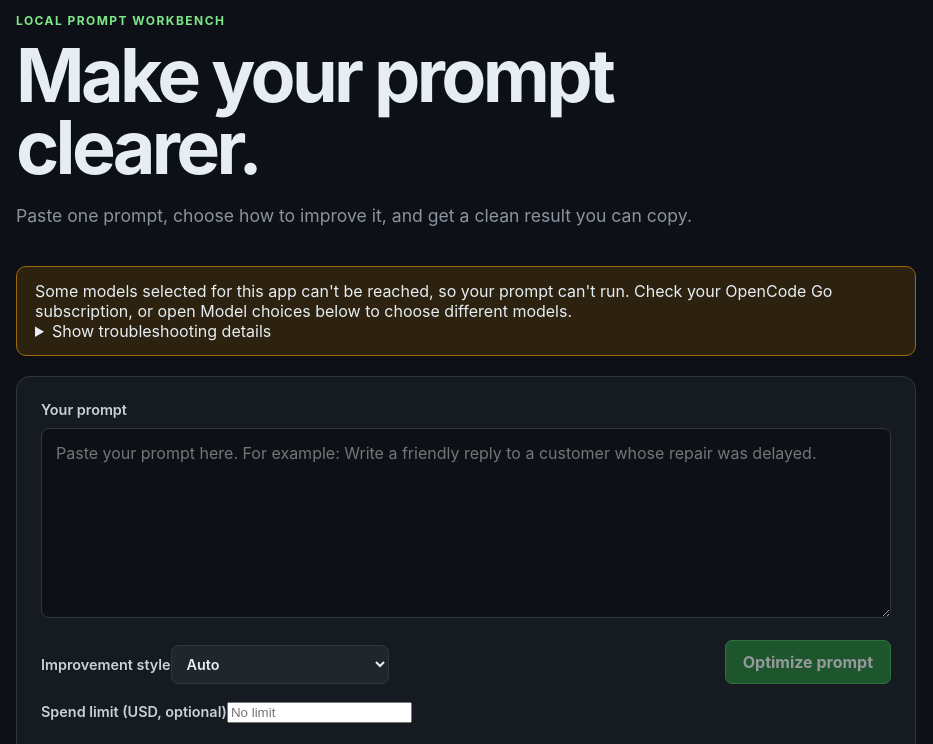
Scenario: explains the unavailable models plainly and keeps diagnostics available
The width and height of the screenshot is (933, 744).
Expected: the text "Some models selected for this app can't be reached" shows "Some models selected for this app can't be reached, so your prompt can't run. Check your OpenCode Go subscription, or open Model choices below to choose differe", [35,281,832,321]
Click the heading "Show troubleshooting details" at (162, 331), box [52,321,271,341]
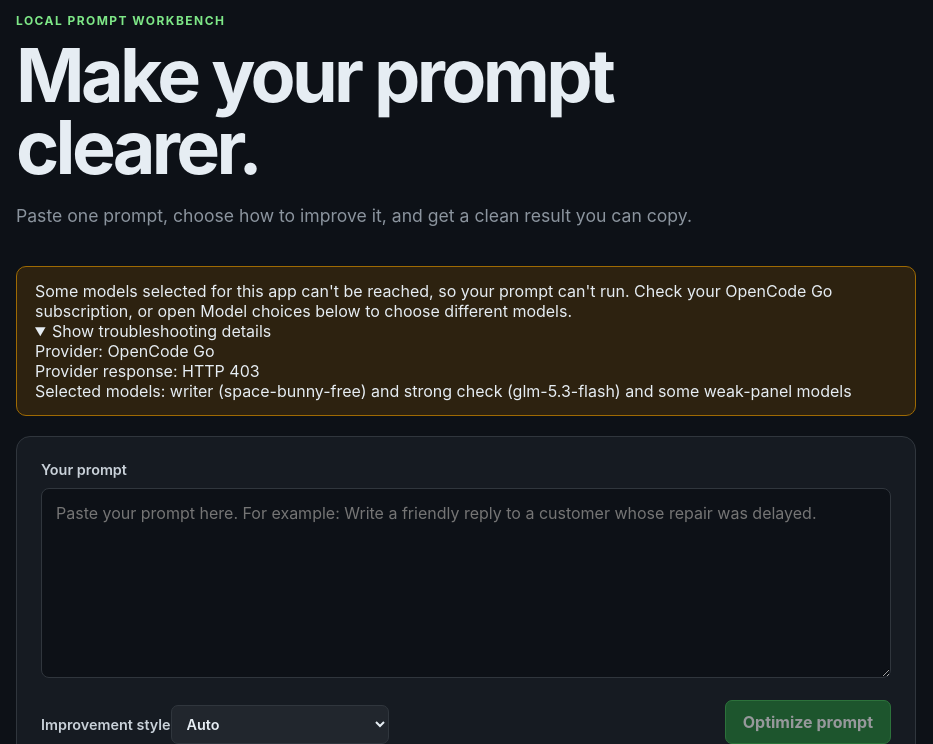
Result: the text "Provider: OpenCode Go" is shown at [35,341,215,361]
Result: the text "Provider response: HTTP 403" is shown at [35,361,260,381]
Result: the text "strong check (glm-5.3-flash)" is shown at [170,381,852,401]
